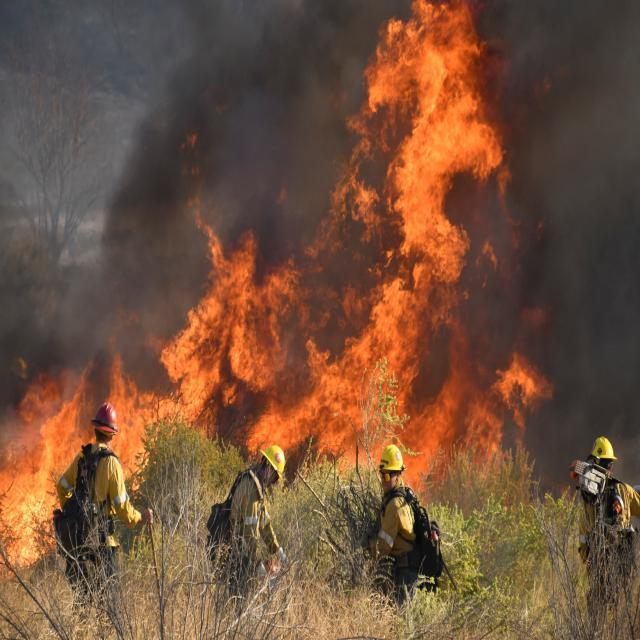Fire: (0, 0, 577, 585)
Smoke: (0, 0, 398, 448), (437, 0, 640, 511)
